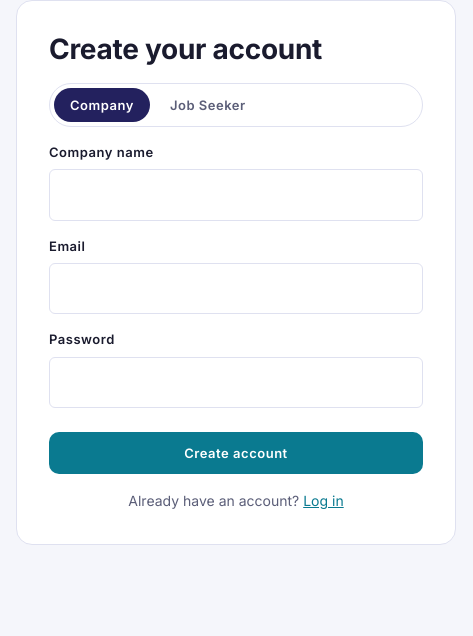
Test: AuthForm › validates an empty Full name with the Job Seeker message
The width and height of the screenshot is (473, 636).
Click the radio button labelled "Job Seeker": (208, 105) left=154, top=88, right=262, bottom=122
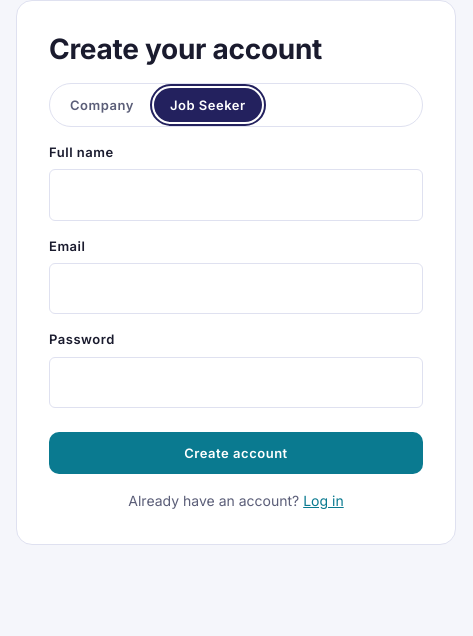
Click the button "Create account": (236, 453) left=49, top=432, right=423, bottom=474
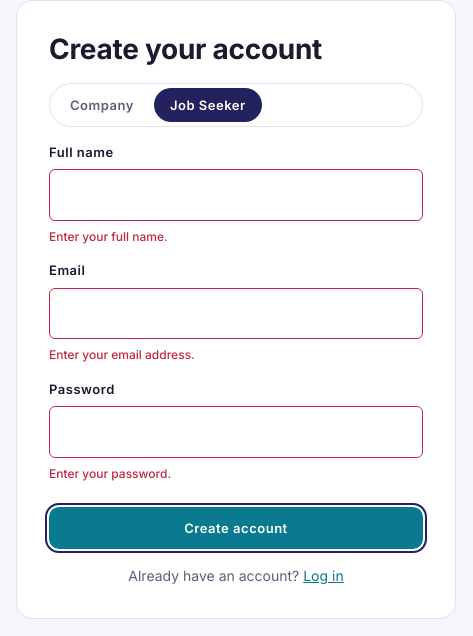
Expected: the text "Enter your full name." is shown, left=49, top=229, right=168, bottom=244
